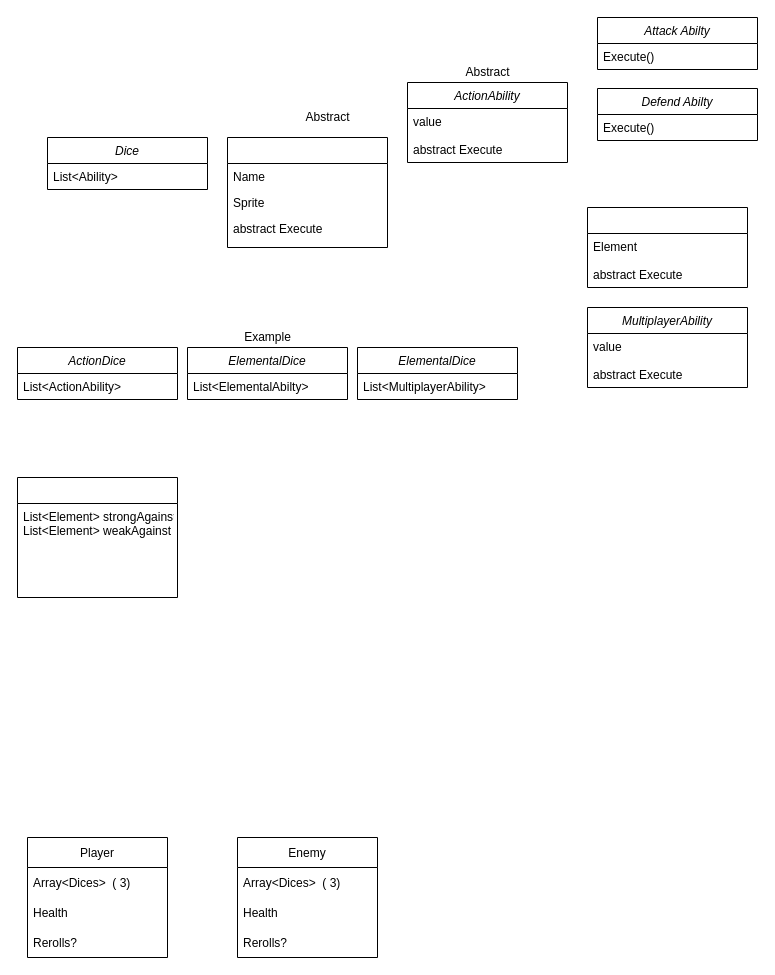
This 775x975 diagram has some shape labels left out. The shapes that lost their labels are listed below. From the top down, each one's box as (x1, y1, x2, y2) in pixels, then its label:
(226, 136, 388, 248): Ability
(586, 206, 748, 288): ElementalAbility
(16, 476, 178, 598): Element
